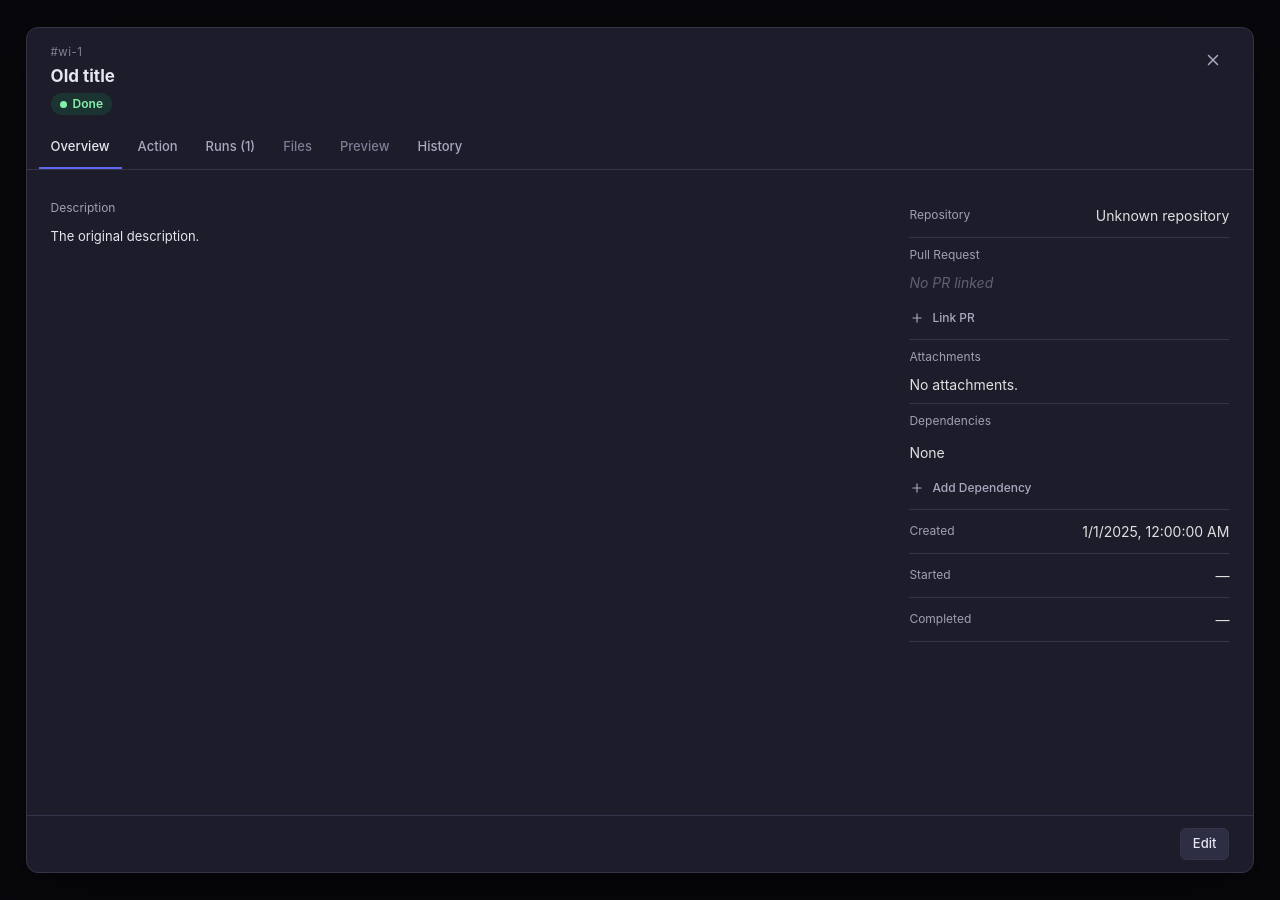
edit proposals in the detail view › an approve refused because the item changed shows the card stale, in place, and leaves the item as it is
Click the tab "Action": (158, 148) [126,127,190,169]
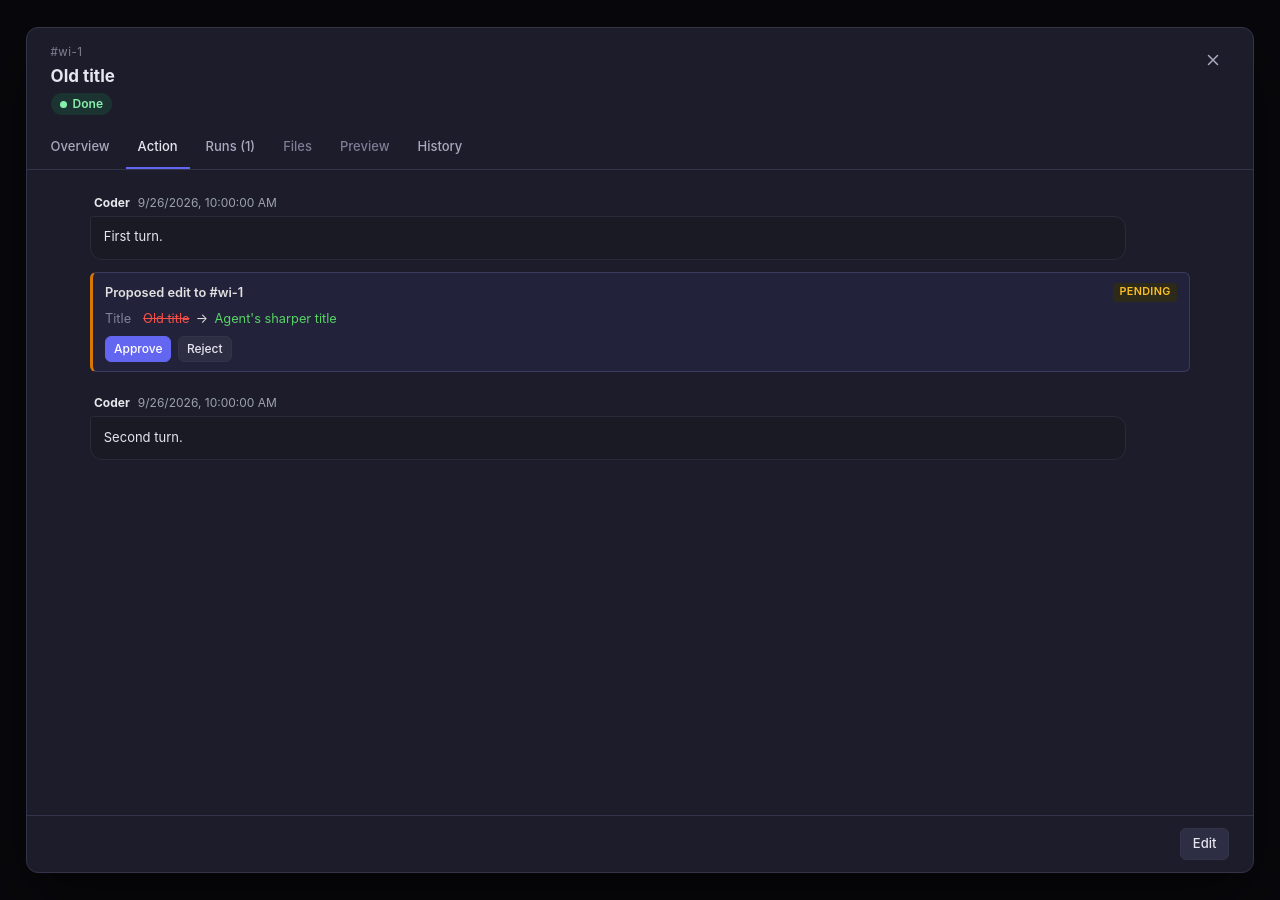
Click the button "Approve": (138, 349) [105,336,172,362]
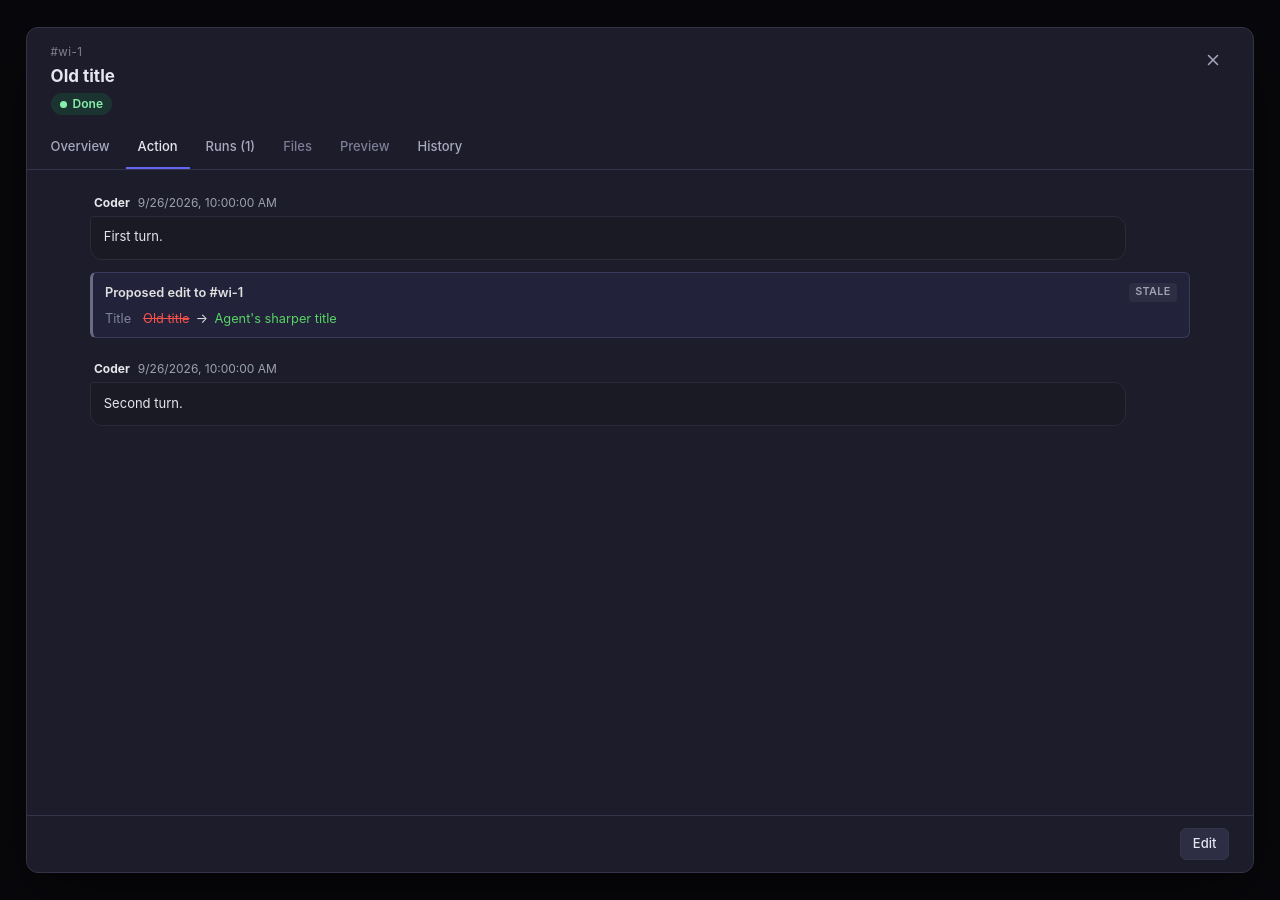
Now the text "Agent's sharper title" shows "Stale", box [1135,285,1171,298]
Now the button "Approve" is gone
